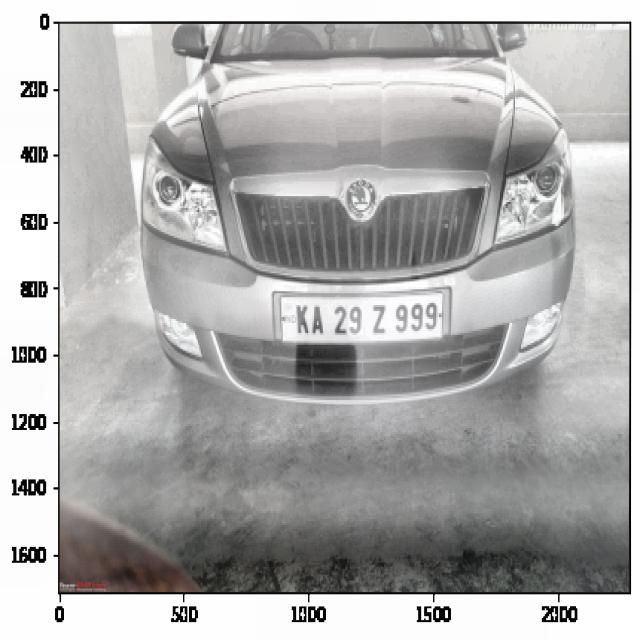license_plate: (286, 290, 443, 342)
